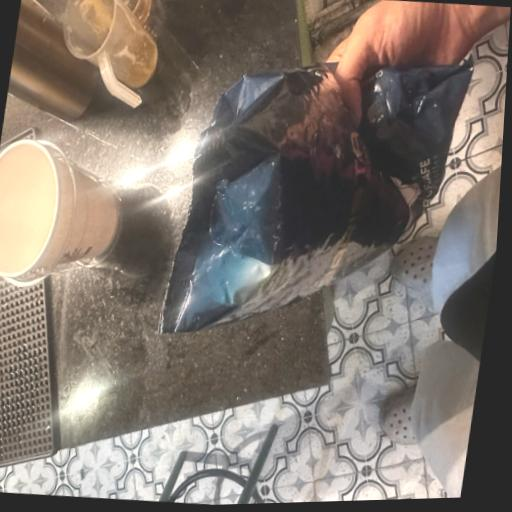cafe_hat: (160, 63, 472, 333)
